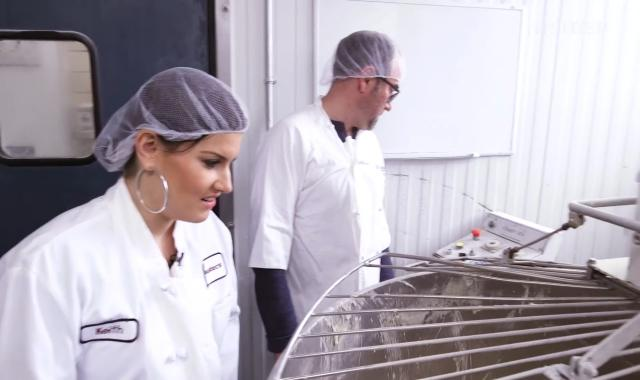hairnet: (91, 66, 251, 170), (322, 32, 405, 84)
